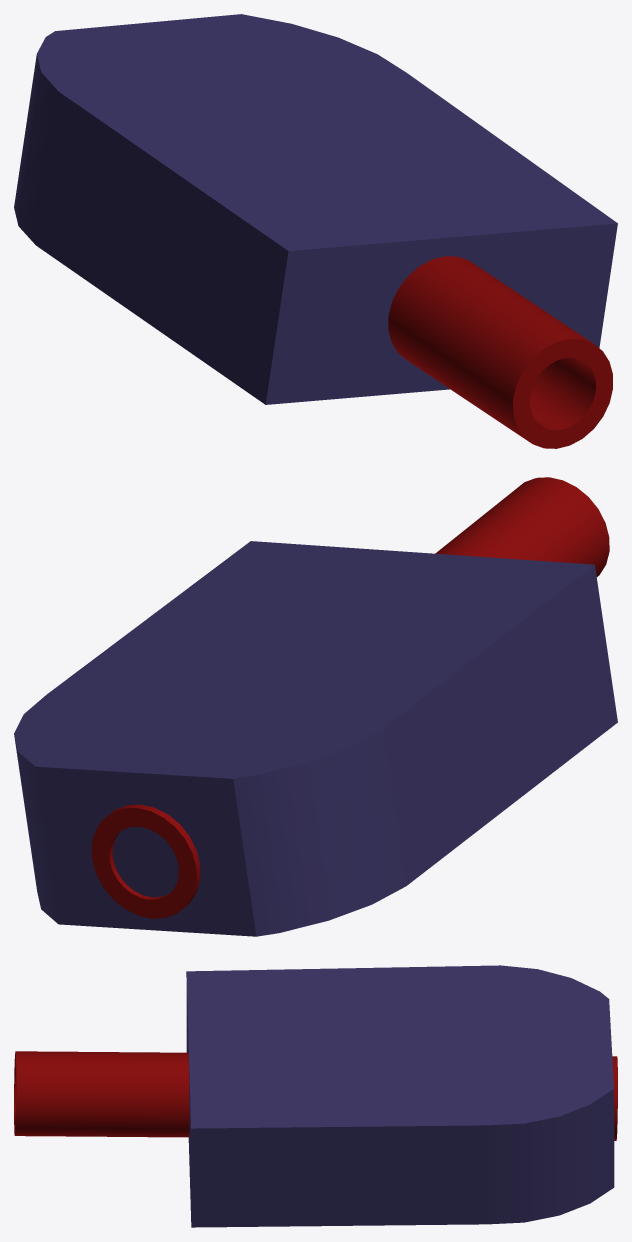
The model's file is Pedal_Izq.obj.
3 renders of one model, top to bottom at view 1: azimuth 30°, elevation 25°; view 2: azimuth 150°, elevation 25°; view 3: azimuth 270°, elevation 25°, orthographic. The views are drawn at different scales.
Visible parts, largest first — view 1: Group_009, Group_010; view 2: Group_009, Group_010; view 3: Group_009, Group_010.
Part boxes in pixels (x1=…): Group_009: x1=14, y1=14, x2=617, y2=404; Group_010: x1=388, y1=256, x2=612, y2=448; Group_009: x1=14, y1=541, x2=617, y2=936; Group_010: x1=91, y1=477, x2=609, y2=918; Group_009: x1=186, y1=965, x2=614, y2=1227; Group_010: x1=14, y1=1051, x2=617, y2=1140.
Size of the model in its own units: 1.92 by 1.04 by 3.81.
Materials: 2 (1 with a texture image).
